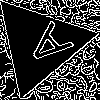A: (15, 19, 75, 76)
